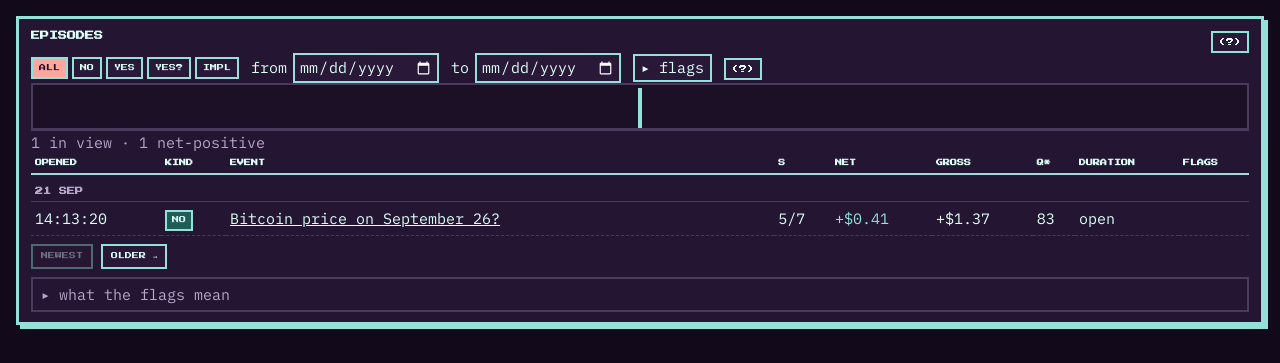
Test case: Episodes › pages older with the cursor and back to the newest
Expected: the link "Bitcoin price on September 26?" is shown, x1=230 y1=209 x2=500 y2=228
Expected: the button "NEWEST" is disabled, x1=31 y1=244 x2=93 y2=269
Click the button "OLDER →": [134, 256] box x1=101 y1=244 x2=167 y2=269
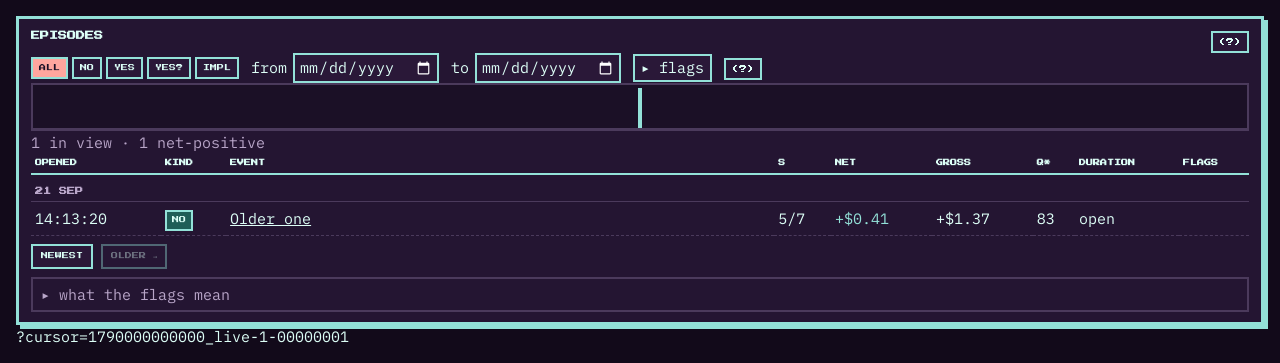
Result: the link "Older one" is shown at x1=230 y1=209 x2=311 y2=228
Result: the text with test id "loc" shows "cursor=1790000000000_live-1-00000001" at x1=16 y1=327 x2=349 y2=346
Result: the button "OLDER →" is disabled at x1=101 y1=244 x2=167 y2=269
Click the button "NEWEST": [62, 256] box x1=31 y1=244 x2=93 y2=269
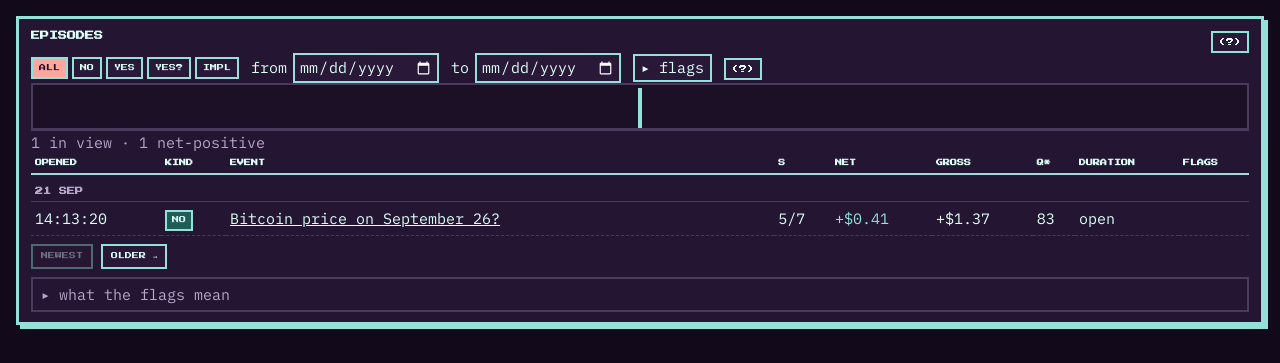
Result: the link "Bitcoin price on September 26?" is shown at x1=230 y1=209 x2=500 y2=228
